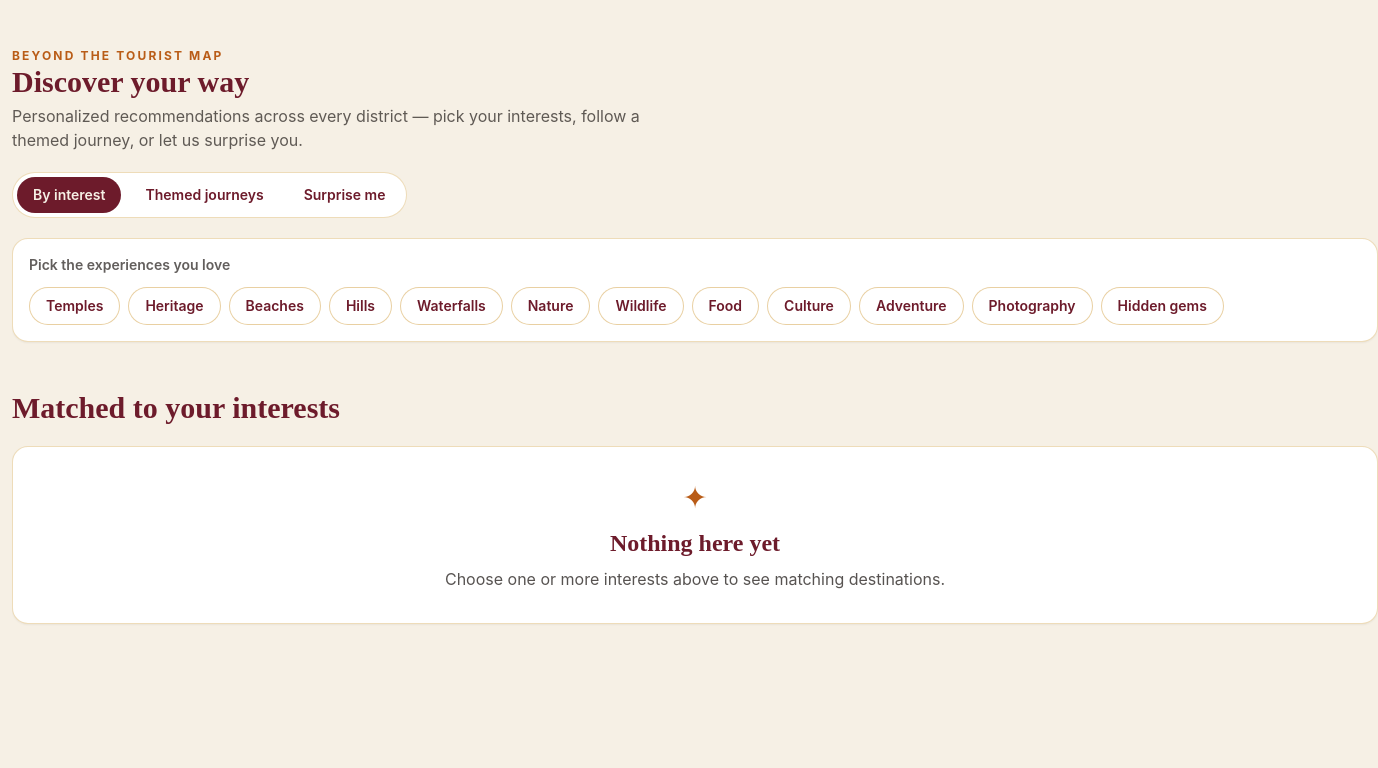
Scenario: PersonalizedDiscovery › shows an empty state when a selection matches nothing
Click the button "Beaches" at coordinates (275, 306), box [228,287,321,325]
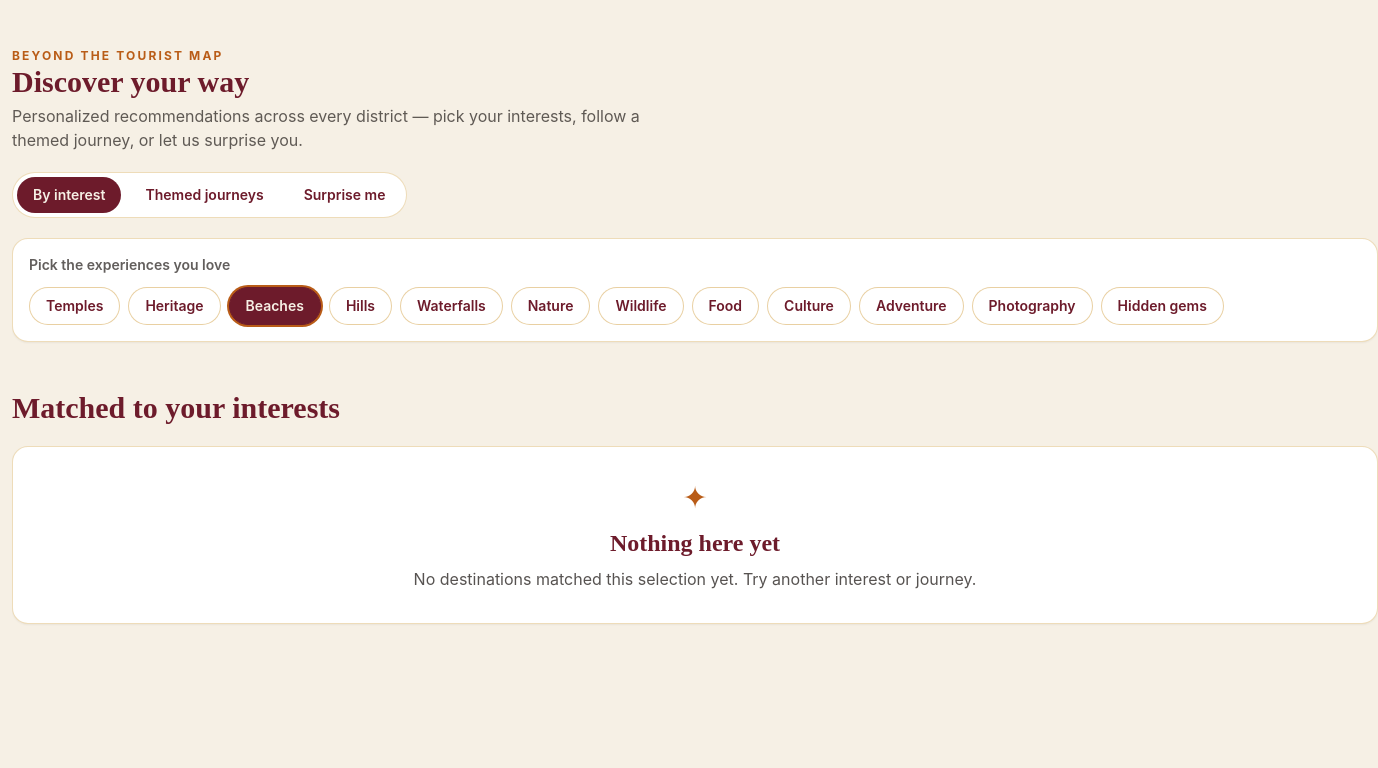
Expected: the heading "Nothing here yet" is shown, [610,530,780,556]
Now the text "No destinations matched this selection" is shown, box [414,569,976,589]
